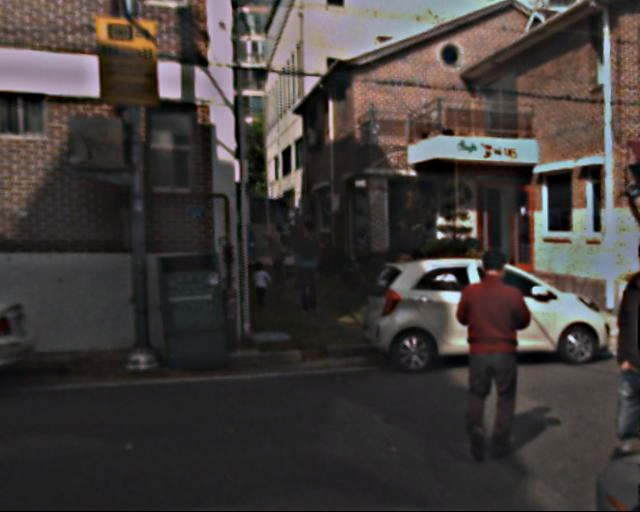person: (444, 251, 536, 462), (290, 220, 330, 311), (265, 224, 291, 286), (250, 261, 269, 307)
